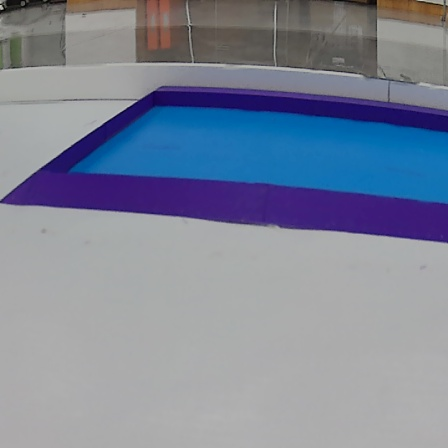blue_aim: (2, 86, 448, 241)
